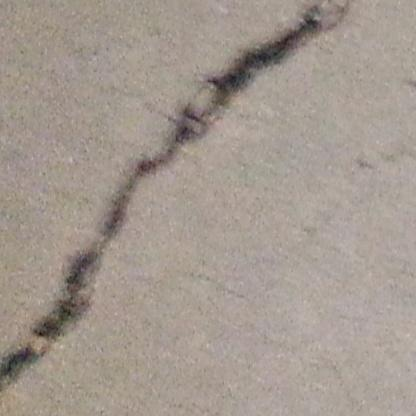Cracks: (28, 0, 370, 345), (0, 344, 51, 415)
